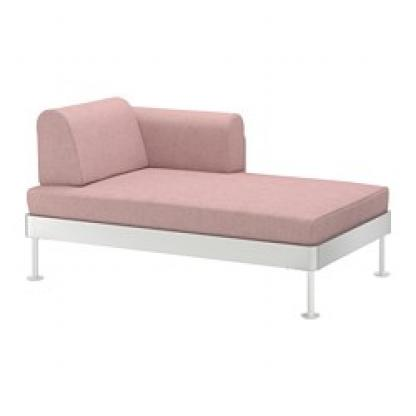Sofa: (20, 85, 394, 326)
